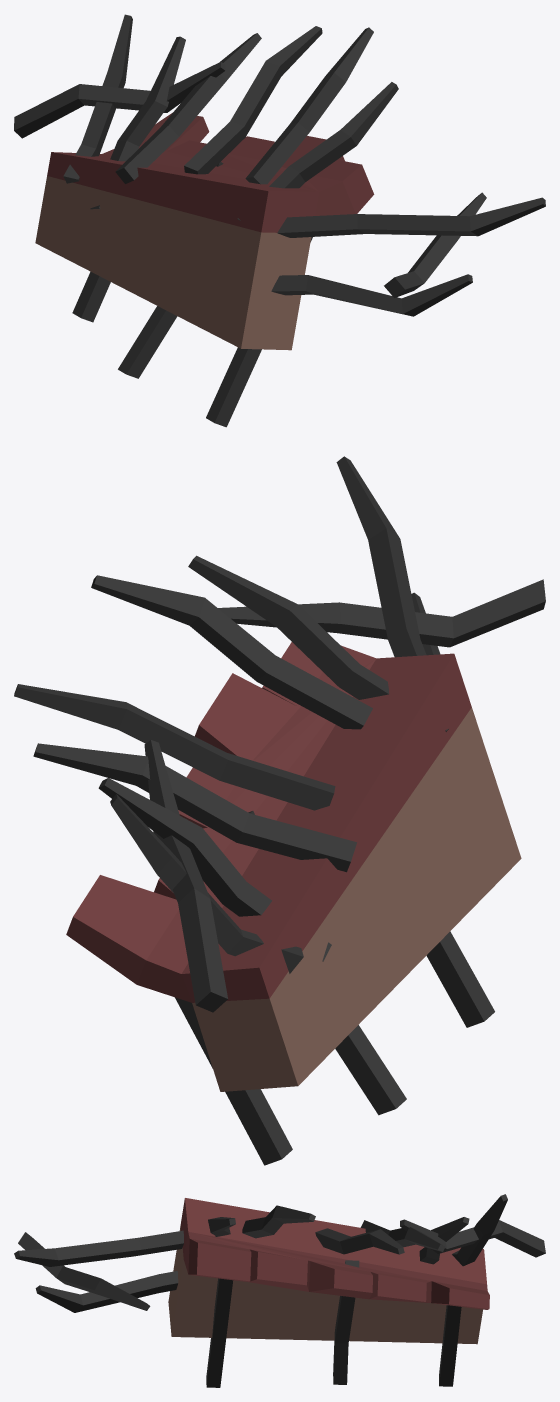
The model's file is DarkGreyMetalWallSmallRoofSupport1.fbx.
The picture shows the model from 3 angles, top to bottom: view 1: azimuth 30°, elevation 25°; view 2: azimuth 150°, elevation 25°; view 3: azimuth 270°, elevation 25°; orthographic projection. The views are drawn at different scales.
Parts seen in each view (by area): view 1: DarkGreyMetalWallSmallRoofSupport1; view 2: DarkGreyMetalWallSmallRoofSupport1; view 3: DarkGreyMetalWallSmallRoofSupport1.
Boxes of the visible parts, left/top/right/bottom form: DarkGreyMetalWallSmallRoofSupport1: left=14, top=14, right=545, bottom=427; DarkGreyMetalWallSmallRoofSupport1: left=14, top=456, right=545, bottom=1165; DarkGreyMetalWallSmallRoofSupport1: left=14, top=1194, right=545, bottom=1387.
Bounding box in the file's own units: 307 × 354 × 653.
